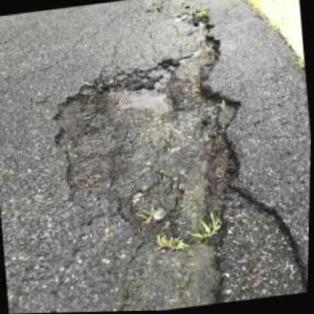Hueco: (38, 10, 262, 266)
